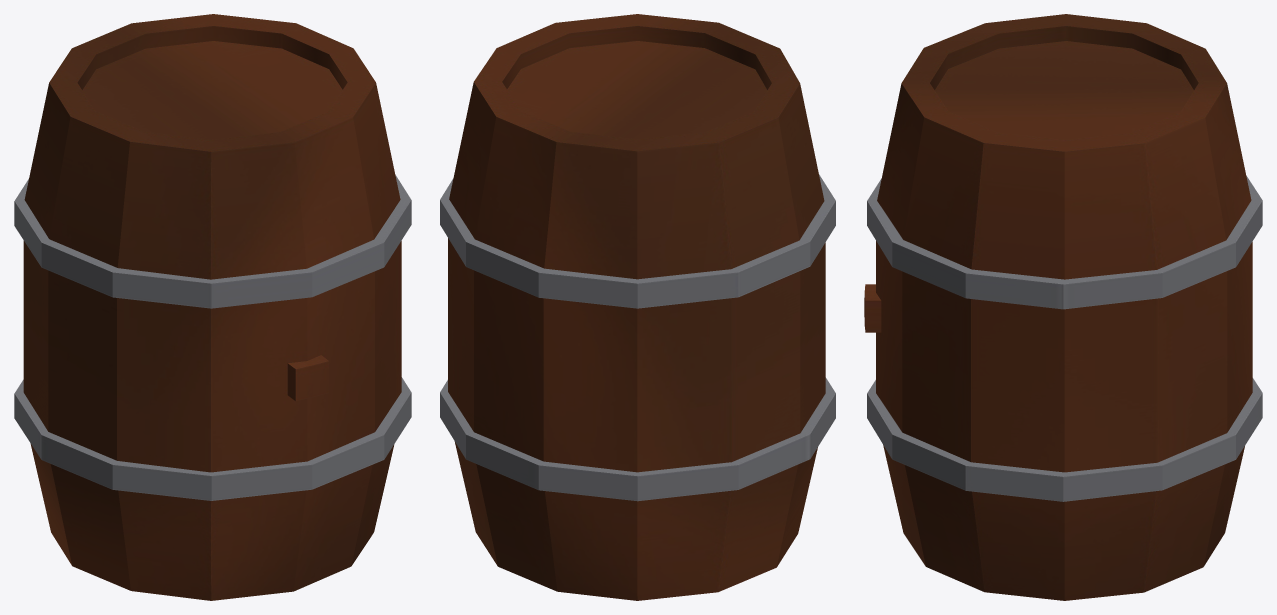
File: tonneau.glb
3 views of the same model, side by side, from view 1: azimuth 30°, elevation 25°; view 2: azimuth 150°, elevation 25°; view 3: azimuth 270°, elevation 25° (orthographic).
Parts seen in each view (by area): view 1: tonneau_en_bois_nouvelle_texture_tonneau en bois nouvelle te; view 2: tonneau_en_bois_nouvelle_texture_tonneau en bois nouvelle te; view 3: tonneau_en_bois_nouvelle_texture_tonneau en bois nouvelle te.
Boxes of the visible parts, x1,y1,x2,y2 form: tonneau_en_bois_nouvelle_texture_tonneau en bois nouvelle te: (14, 14, 411, 600); tonneau_en_bois_nouvelle_texture_tonneau en bois nouvelle te: (440, 14, 835, 600); tonneau_en_bois_nouvelle_texture_tonneau en bois nouvelle te: (864, 14, 1262, 600).
Bounding box in the file's own units: 0.7197 × 0.9 × 0.7222.
Materials: 1 (1 with a texture image).
